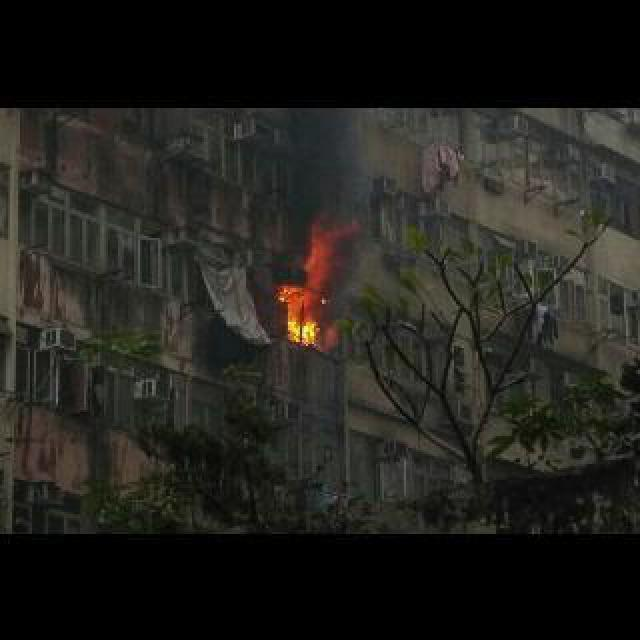Fire: (280, 282, 322, 342)
Smoke: (272, 99, 378, 286)
